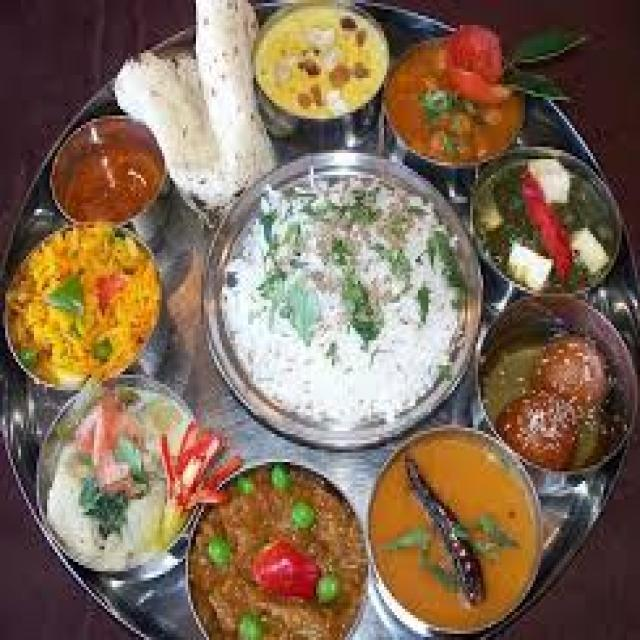dal: (4, 210, 156, 396), (254, 3, 379, 124)
papad: (184, 0, 275, 195)
rice: (219, 167, 473, 450), (1, 213, 167, 392)
sambar-rasam: (184, 452, 364, 637), (35, 107, 170, 234)
